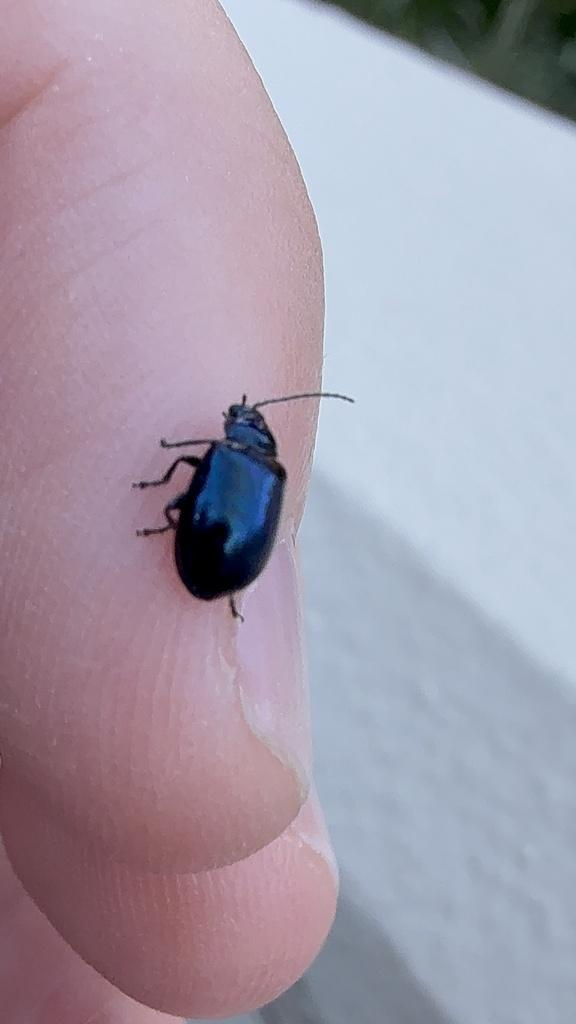flea_beetle: (86, 332, 393, 653)
